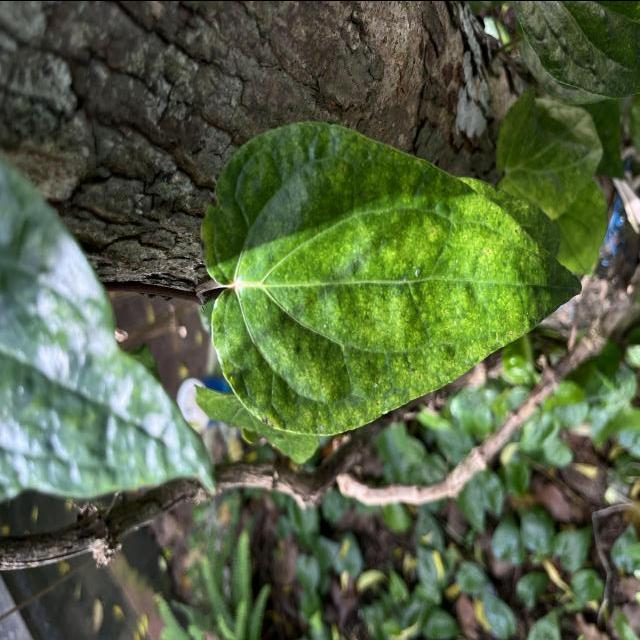Piper betle: (198, 116, 584, 439)
